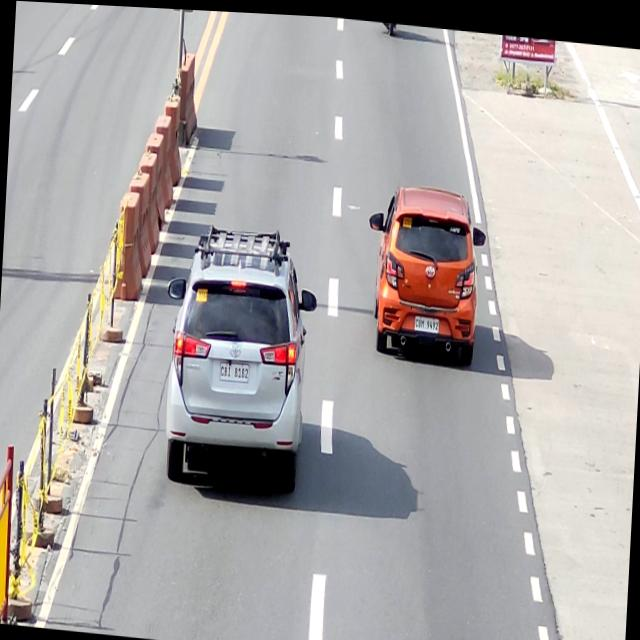Car: (157, 216, 320, 493), (362, 176, 488, 362)
License-Plate: (214, 349, 255, 386), (414, 308, 439, 328)
